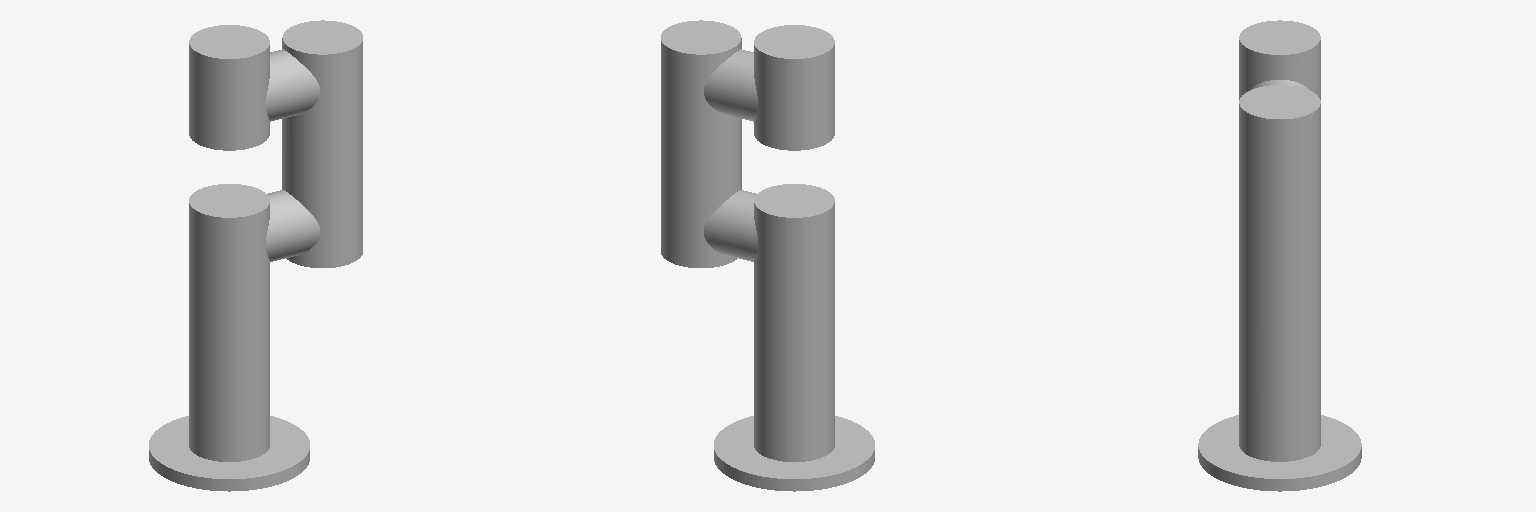
The robot description file, URDF, robot "robot_3r":
<?xml version="1.0" ?>
<robot name="robot_3r">
  <!--Generated by CROSS, a ROS Workbench for FreeCAD (https://github.com/galou/freecad.cross)-->
  <link name="base">
    <visual>
      <!--base_3r-->
      <origin rpy="0.0 -0.0 0.0" xyz="0.0 0.0 0.0"/>
      <geometry>
        <mesh filename="package://robots_description/meshes/base_3r.dae"/>
      </geometry>
    </visual>
    <inertial>
      <mass value="0.0"/>
      <origin rpy="0.0 -0.0 0.0" xyz="0.0 0.0 0.0"/>
      <inertia ixx="0.0" ixy="0.0" ixz="0.0" iyy="0.0" iyz="0.0" izz="0.0"/>
    </inertial>
  </link>
  <link name="shoulder">
    <visual>
      <!--shoulder_3r-->
      <origin rpy="0.0 -0.0 0.0" xyz="0.0 0.0 0.0"/>
      <geometry>
        <mesh filename="package://robots_description/meshes/shoulder_3r.dae"/>
      </geometry>
    </visual>
    <inertial>
      <mass value="0.0"/>
      <origin rpy="0.0 -0.0 0.0" xyz="0.0 0.0 0.0"/>
      <inertia ixx="0.0" ixy="0.0" ixz="0.0" iyy="0.0" iyz="0.0" izz="0.0"/>
    </inertial>
  </link>
  <link name="arm">
    <visual>
      <!--arm_3r-->
      <origin rpy="-0.0 1.5707963267948966 0.0" xyz="-0.145 0.0 0.04"/>
      <geometry>
        <mesh filename="package://robots_description/meshes/arm_3r.dae"/>
      </geometry>
    </visual>
    <inertial>
      <mass value="0.0"/>
      <origin rpy="0.0 -0.0 0.0" xyz="0.0 0.0 0.0"/>
      <inertia ixx="0.0" ixy="0.0" ixz="0.0" iyy="0.0" iyz="0.0" izz="0.0"/>
    </inertial>
  </link>
  <link name="forearm">
    <visual>
      <!--forearm_3r-->
      <origin rpy="-0.0 1.5707963267948966 0.0" xyz="-0.03 0.0 0.04"/>
      <geometry>
        <mesh filename="package://robots_description/meshes/forearm_3r.dae"/>
      </geometry>
    </visual>
    <inertial>
      <mass value="0.0"/>
      <origin rpy="0.0 -0.0 0.0" xyz="0.0 0.0 0.0"/>
      <inertia ixx="0.0" ixy="0.0" ixz="0.0" iyy="0.0" iyz="0.0" izz="0.0"/>
    </inertial>
  </link>
  <joint name="base_shoulder" type="revolute">
    <parent link="base"/>
    <child link="shoulder"/>
    <origin rpy="0.0 -0.0 0.0" xyz="0.0 0.0 0.01"/>
    <axis xyz="0 0 1"/>
    <limit effort="0.0" lower="0.0" upper="0.0" velocity="0.0"/>
  </joint>
  <joint name="shoulder_arm" type="revolute">
    <parent link="shoulder"/>
    <child link="arm"/>
    <origin rpy="-0.0 1.5707963267948966 0.0" xyz="0.04 0.0 0.17"/>
    <axis xyz="0 0 1"/>
    <limit effort="0.0" lower="0.0" upper="0.0" velocity="0.0"/>
  </joint>
  <joint name="arm_forearm" type="revolute">
    <parent link="arm"/>
    <child link="forearm"/>
    <origin rpy="3.141592653589793 1.224646799147353e-16 3.141592653589793" xyz="-0.115 0.0 0.0"/>
    <axis xyz="0 0 1"/>
    <limit effort="0.0" lower="0.0" upper="0.0" velocity="0.0"/>
  </joint>
</robot>

--- What the picture shows (computed from the rendered views, not written in the file) ---
3 views of the same robot in one strip: view 1: azimuth 30°, elevation 25°; view 2: azimuth 150°, elevation 25°; view 3: azimuth 270°, elevation 25° (orthographic).
Robot: robot_3r — 4 links, 3 joints (3 revolute); root link base; default pose: all joints at 0.
Visible links, largest first — view 1: shoulder, arm, forearm, base; view 2: shoulder, arm, forearm, base; view 3: arm, shoulder, base, forearm.
Boxes of the visible links, <box> form: shoulder: <box>189,184,292,461</box>; arm: <box>270,20,362,267</box>; forearm: <box>189,25,292,150</box>; base: <box>149,416,309,491</box>; shoulder: <box>731,184,834,461</box>; arm: <box>661,20,753,267</box>; forearm: <box>731,25,834,150</box>; base: <box>714,416,874,491</box>; arm: <box>1239,85,1320,334</box>; shoulder: <box>1239,320,1320,461</box>; base: <box>1198,415,1361,491</box>; forearm: <box>1239,20,1320,99</box>.
Bounding box of the posed robot: 0.17 × 0.12 × 0.34 m (x, y, z).
4 mesh visuals loaded from 4 distinct referenced files (4 Collada DAE).